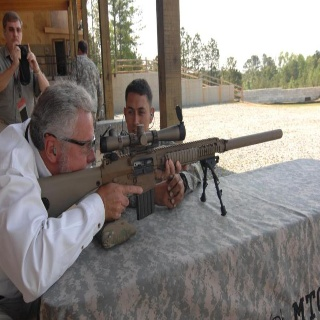rifle: (35, 105, 284, 220)
